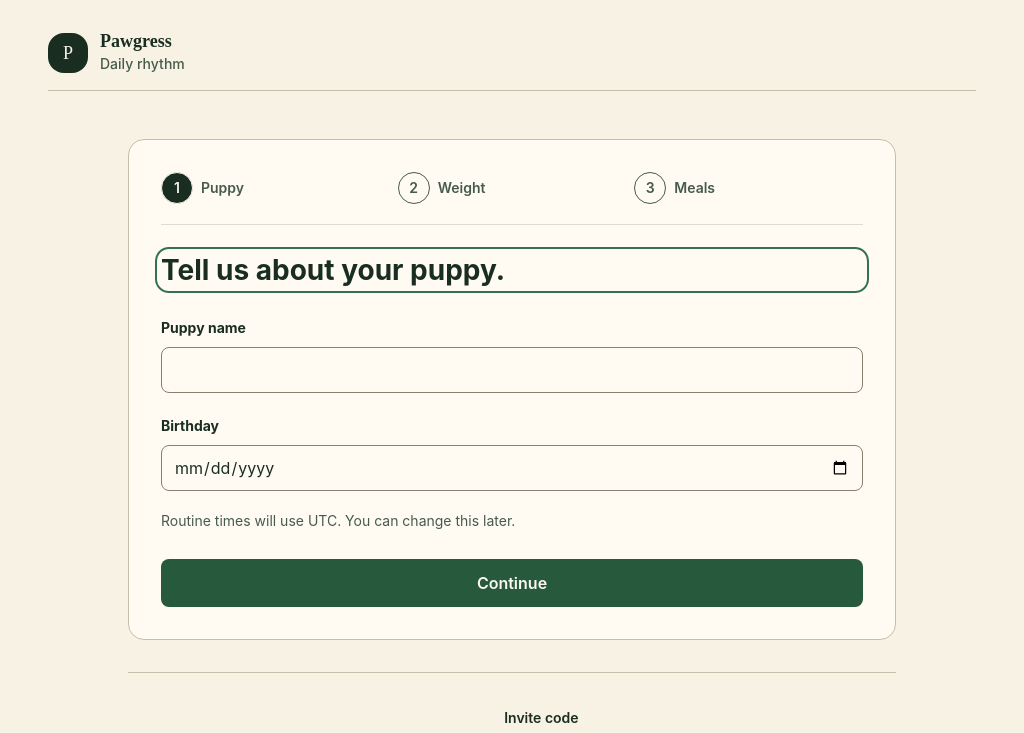
Test: OnboardingPage › blocks invalid puppy details and focuses the first field
The image size is (1024, 733).
Step 1. Click the button "Continue" → point(512, 583), box [161,559,863,607]
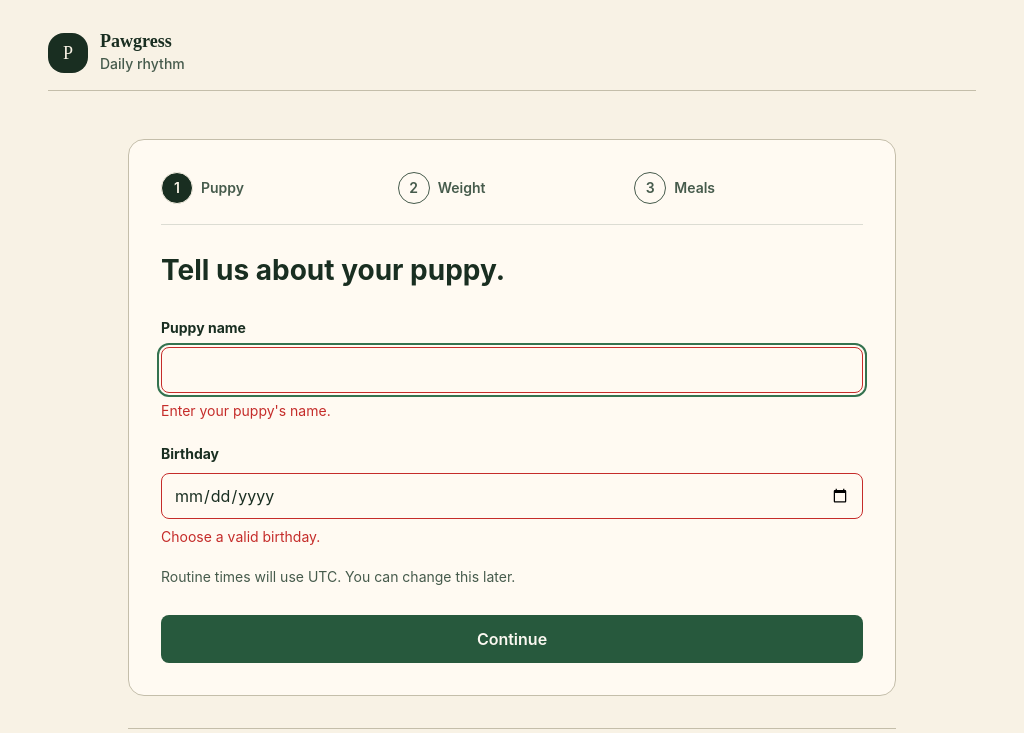
Expected: the heading "Tell us about your puppy." is shown, [161,253,505,287]
Now the text "Enter your puppy's name." is shown, box [161,402,331,419]
Now the text "Choose a valid birthday." is shown, box [161,528,320,545]
